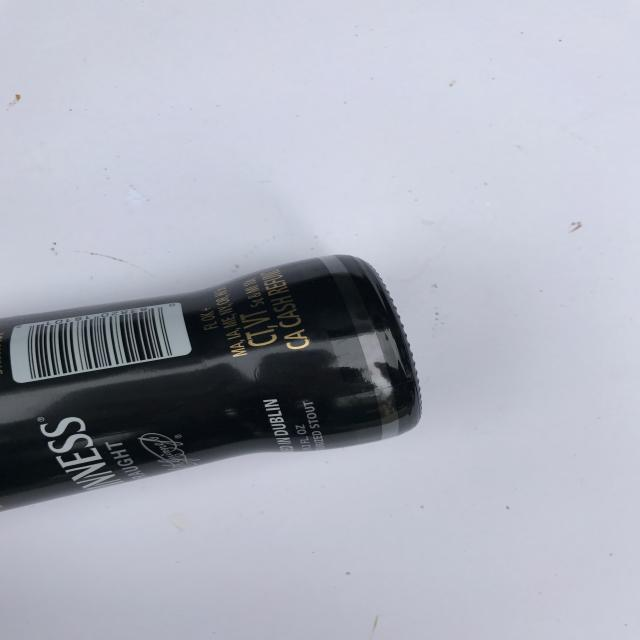glass: (0, 250, 488, 542)
